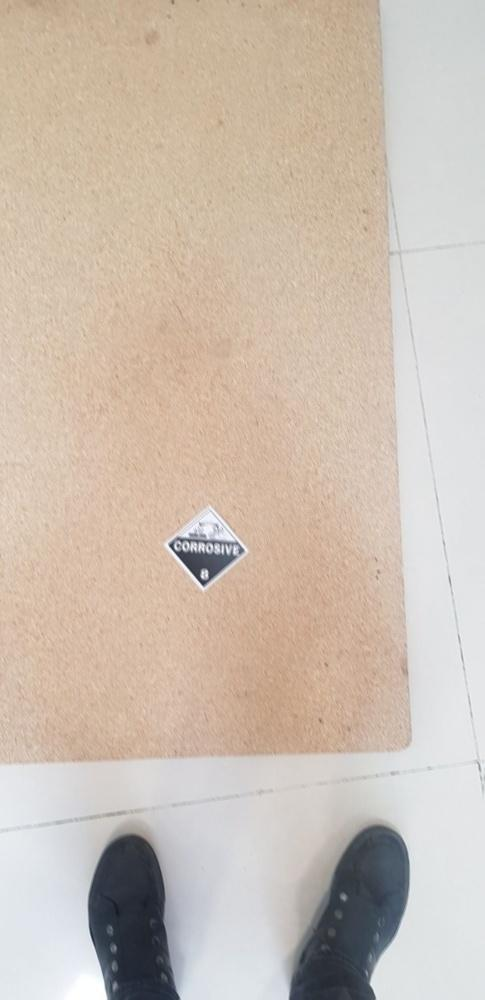corrosive: (165, 508, 249, 593)
